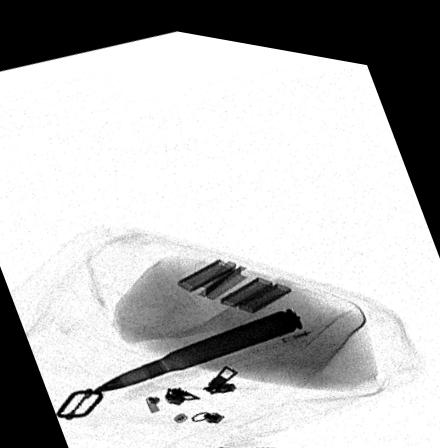Bullet: (84, 294, 304, 393)
